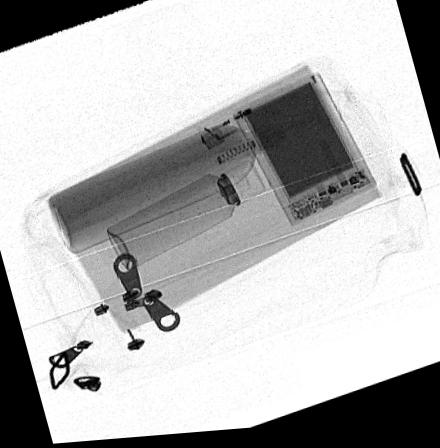Lighter: (196, 87, 300, 153)
Powerbank: (231, 76, 376, 232)
Sprayer: (105, 163, 266, 273)
